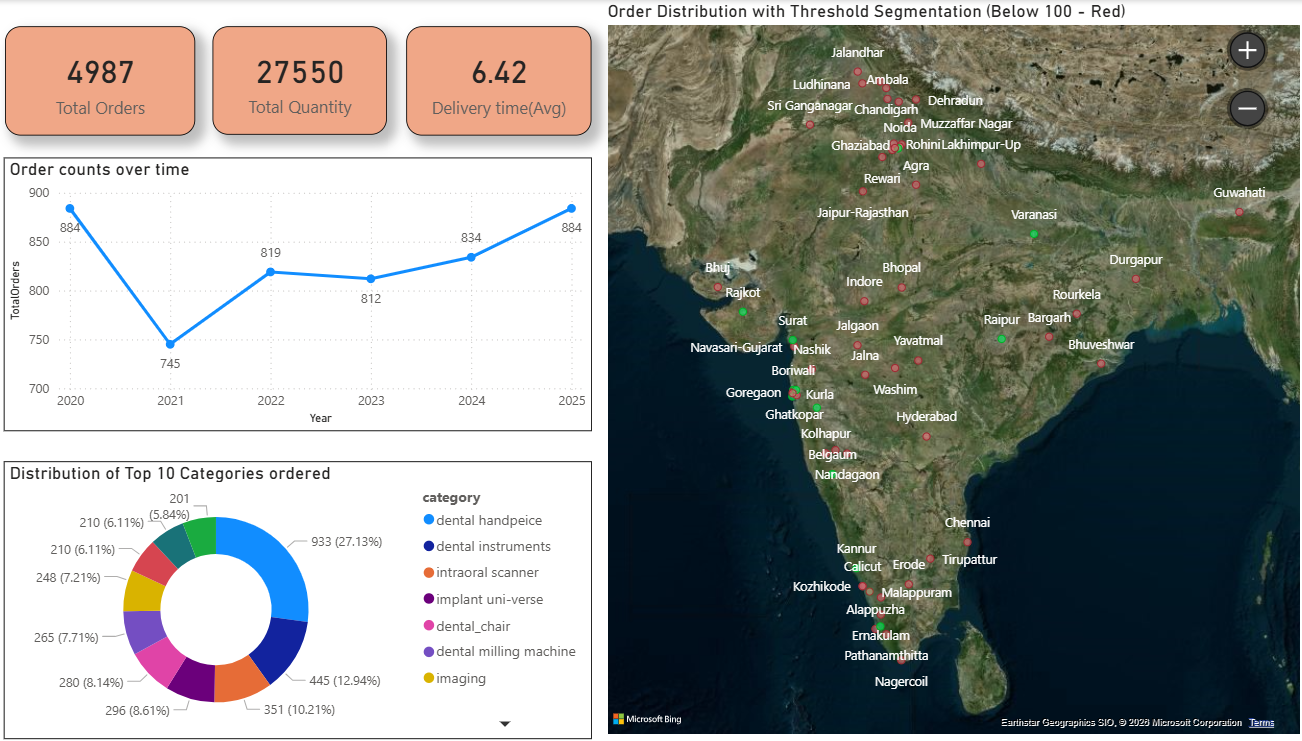

The dashboard page shown, as its layout file describes it:
{"tool":"powerbi","page":{"name":"Overview Dashboard","canvas":[1280,720],"ordinal":1},"visuals":[{"type":"card","fields":{"Values":["high_value_product_categories.TotalOrders"]},"box":[33.8,25,182.5,105],"z":0},{"type":"card","fields":{"Values":["high_value_product_categories.TotalQuantity"]},"box":[232.5,25,167.5,103.8],"z":1000},{"type":"card","fields":{"Values":["high_value_product_categories.AvgDeliverytime"]},"box":[418.8,25,177.5,105],"z":2000},{"type":"lineChart","title":"Order counts over time","fields":{"Category":["datetable.Date Hierarchy.Year"],"Y":["high_value_product_categories.TotalOrders"]},"box":[32.5,151.2,563.8,262.5],"z":3000},{"type":"donutChart","title":"Distribution of Top 10 Categories ordered","fields":{"Category":["Orders_cleaned.category"],"Y":["CountNonNull(Orders_cleaned.category)"]},"box":[32.5,442.5,563.8,266.2],"z":4000},{"type":"map","title":"Order Distribution with Threshold Segmentation (Below 100 - Red)","fields":{"Size":["high_value_product_categories.TotalOrders"],"Category":["Orders_grouped.delivered_to"]},"box":[606.2,0,673.8,708.8],"z":6001}]}

Visuals, with their boxes in screenshot pixels (x1, y1, x2, y2), scaled from the page's 1280x720 canvas onto the 1302x741 screenshot:
card - high_value_product_categories.TotalOrders: {"left": 34, "top": 26, "right": 220, "bottom": 134}
card - high_value_product_categories.TotalQuantity: {"left": 236, "top": 26, "right": 407, "bottom": 133}
card - high_value_product_categories.AvgDeliverytime: {"left": 426, "top": 26, "right": 607, "bottom": 134}
"Order counts over time" lineChart: {"left": 33, "top": 156, "right": 607, "bottom": 426}
"Distribution of Top 10 Categories ordered" donutChart: {"left": 33, "top": 455, "right": 607, "bottom": 729}
"Order Distribution with Threshold Segmentation (Below 100 - Red)" map: {"left": 617, "top": 0, "right": 1301, "bottom": 729}
